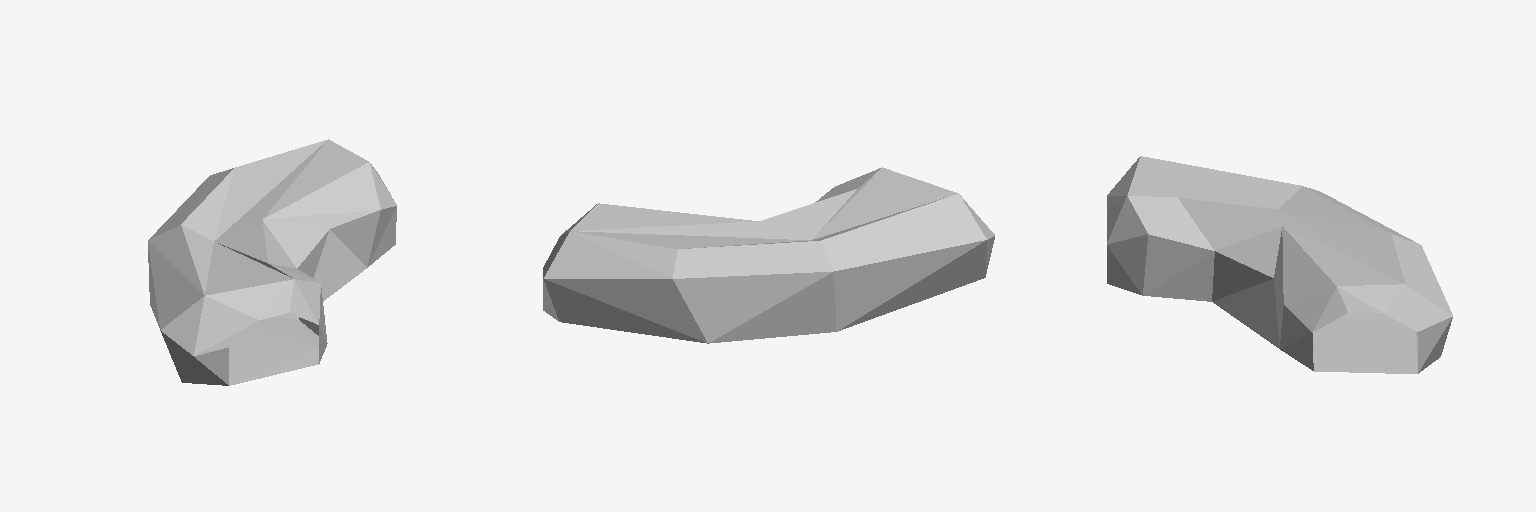
The model's file is Mesh_CavePack_Room_TurnLong_lod2.obj.
The picture shows the model from 3 angles: view 1: azimuth 30°, elevation 25°; view 2: azimuth 150°, elevation 25°; view 3: azimuth 270°, elevation 25°; orthographic projection.
Parts seen in each view (by area): view 1: Plane.002_Plane.001; view 2: Plane.002_Plane.001; view 3: Plane.002_Plane.001.
Boxes of the visible parts, x1,y1,x2,y2 form: Plane.002_Plane.001: [148, 139, 396, 385]; Plane.002_Plane.001: [543, 167, 994, 343]; Plane.002_Plane.001: [1107, 156, 1452, 373].
Bounding box in the file's own units: 33.67 × 8.57 × 32.1.